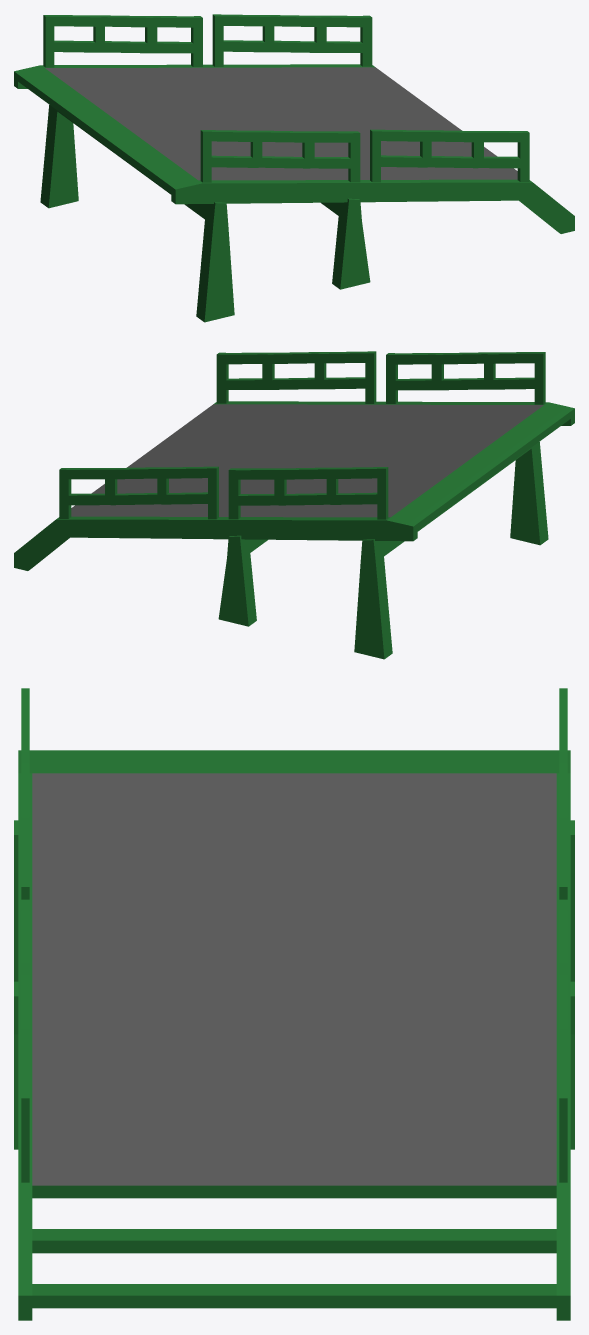
The model's file is bridge.fbx.
The picture shows the model from 3 angles, top to bottom: view 1: azimuth 30°, elevation 25°; view 2: azimuth 150°, elevation 25°; view 3: azimuth 270°, elevation 25°; orthographic projection. The views are drawn at different scales.
Visible parts, largest first — view 1: Plane; view 2: Plane; view 3: Plane.
Part boxes in pixels (<box>): Plane: <box>14,14,574,322</box>; Plane: <box>14,351,574,659</box>; Plane: <box>14,688,574,1320</box>.
Size of the model in its own units: 5692 by 2578 by 4050.
